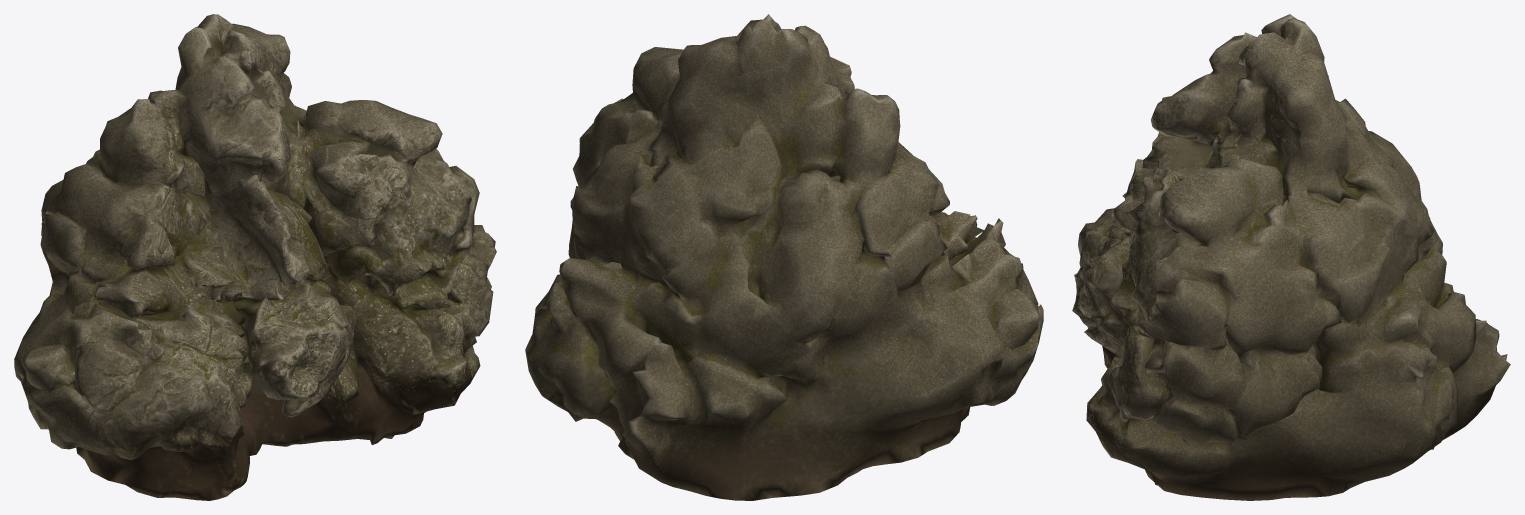
The model's file is nat-rock-a.glb.
3 views of the same model, side by side, from view 1: azimuth 30°, elevation 25°; view 2: azimuth 150°, elevation 25°; view 3: azimuth 270°, elevation 25° (orthographic). The views are drawn at different scales.
Size of the model in its own units: 0.958 by 0.8037 by 0.7935.
Materials: 1 (1 with a texture image).
